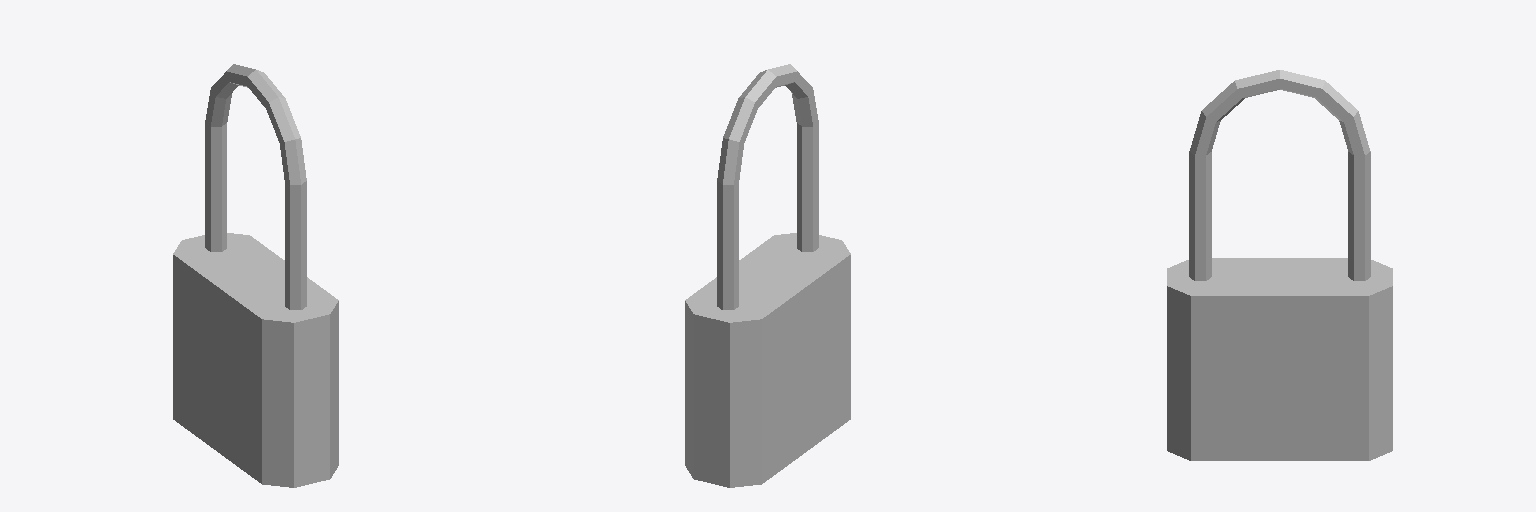
Rendered from hor1 itembox1 lock.obj.
The picture shows the model from 3 angles: view 1: azimuth 30°, elevation 25°; view 2: azimuth 150°, elevation 25°; view 3: azimuth 270°, elevation 25°; orthographic projection.
Visible parts, largest first — view 1: itembox_1_lock_Torus; view 2: itembox_1_lock_Torus; view 3: itembox_1_lock_Torus.
Boxes of the visible parts, box(x1,y1,x2,y2) form: itembox_1_lock_Torus: box(173, 64, 338, 487); itembox_1_lock_Torus: box(685, 64, 850, 487); itembox_1_lock_Torus: box(1167, 70, 1392, 460).
Size of the model in its own units: 0.0254 by 0.1174 by 0.0643.